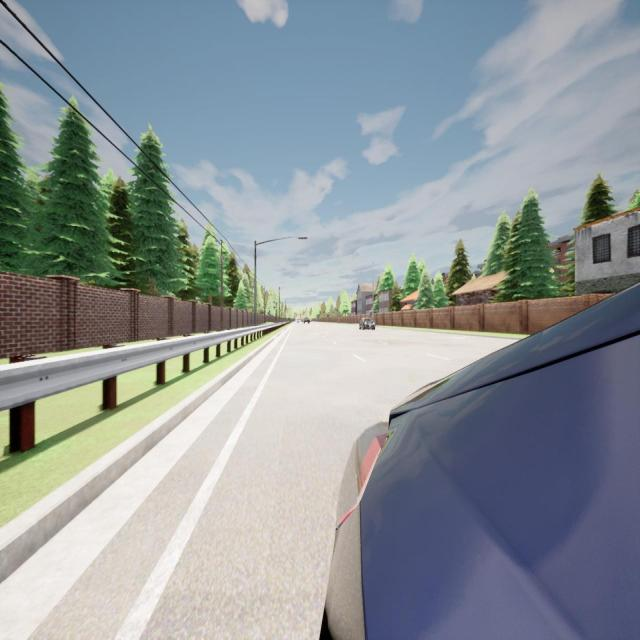Vehicle: (326, 284, 640, 637), (360, 317, 376, 330), (303, 317, 310, 324)
